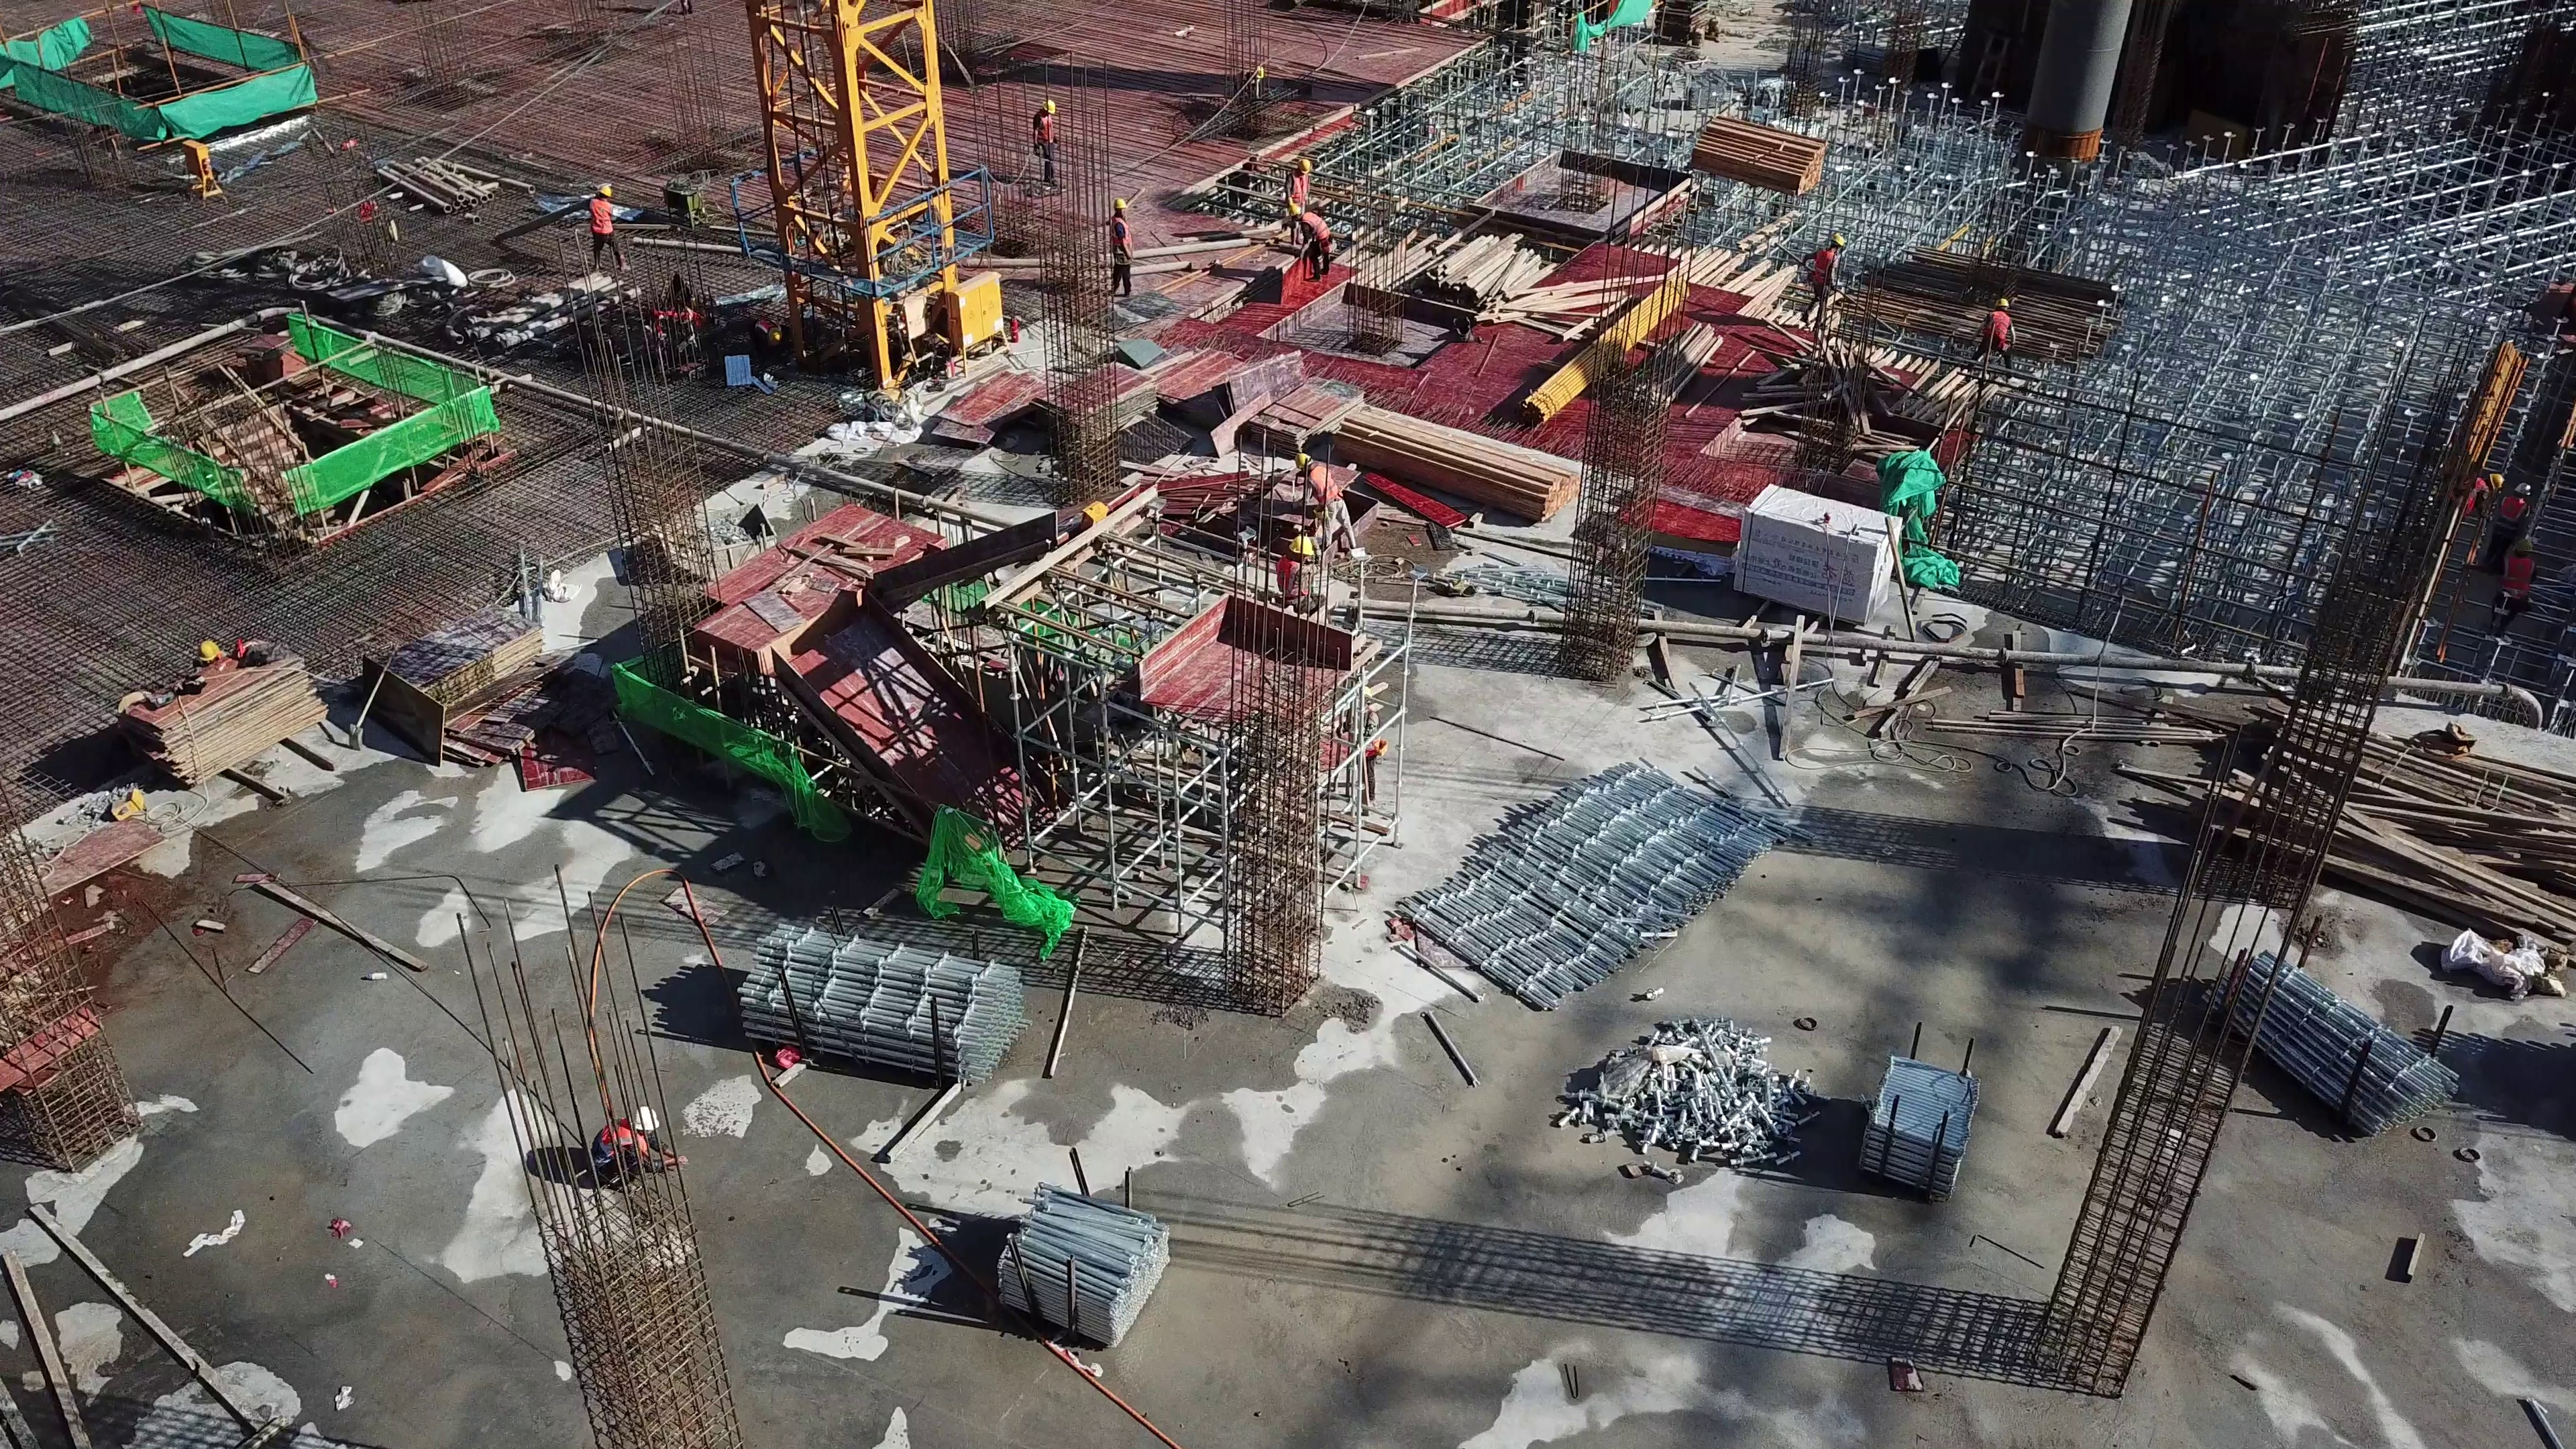board: (362, 602, 551, 777), (122, 640, 327, 794)
person: (578, 1089, 674, 1194), (1799, 223, 1849, 339), (1283, 433, 1342, 520), (1026, 95, 1065, 202), (1983, 299, 2024, 398), (1289, 191, 1327, 292), (1103, 191, 1140, 284), (589, 176, 615, 264), (1289, 144, 1316, 197)
scaffold: (1989, 243, 2362, 669), (1383, 771, 1773, 1010), (2208, 963, 2461, 1144), (732, 937, 1026, 1089), (991, 1179, 1173, 1354), (1849, 1069, 1986, 1194)
wood: (2188, 701, 2576, 928), (1338, 400, 1587, 532), (1377, 243, 1578, 327)
